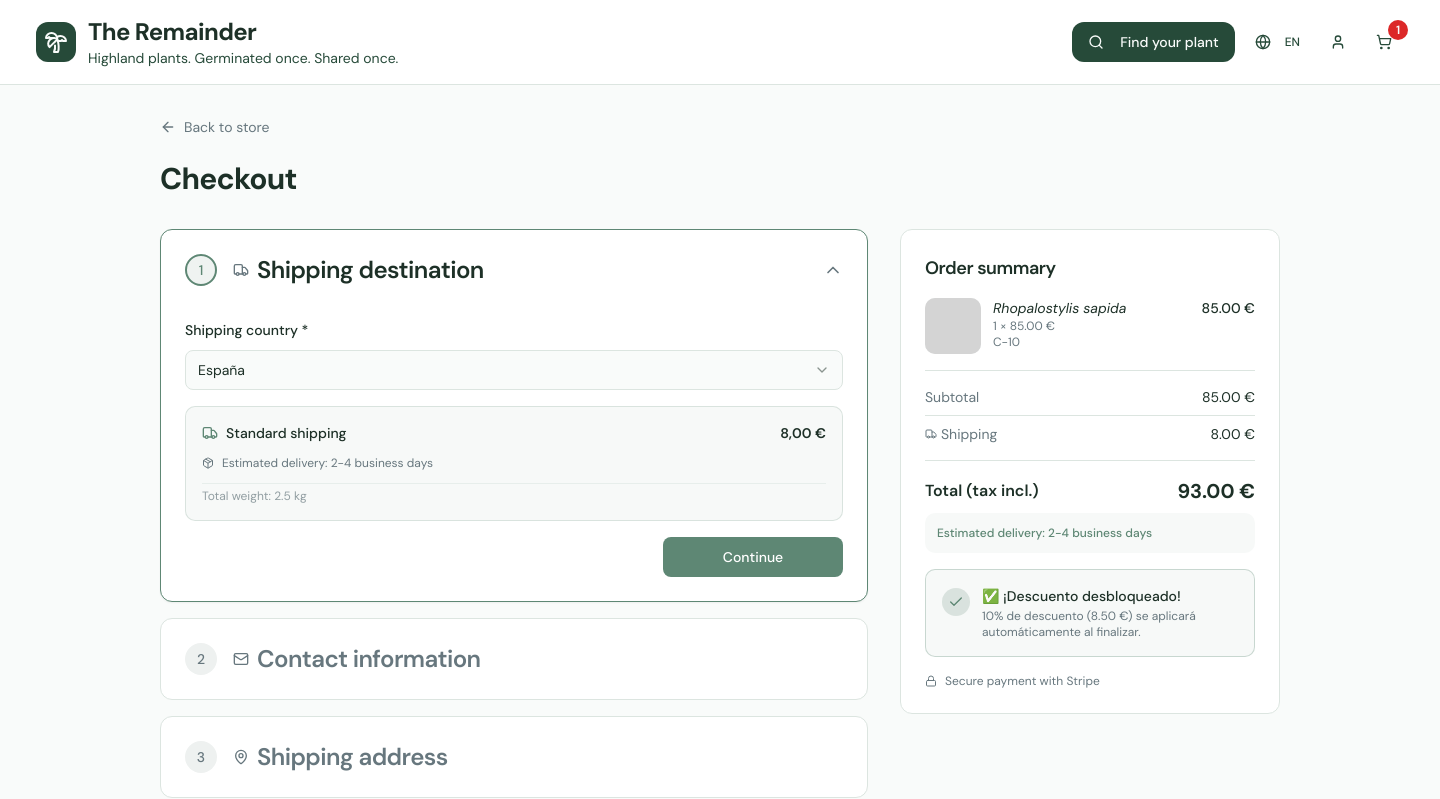
Checkout — form validation › validates required address fields
Step 1 → 2
Click the button "Continue" at (753, 557), box top-left (663, 537), bottom-right (843, 577)
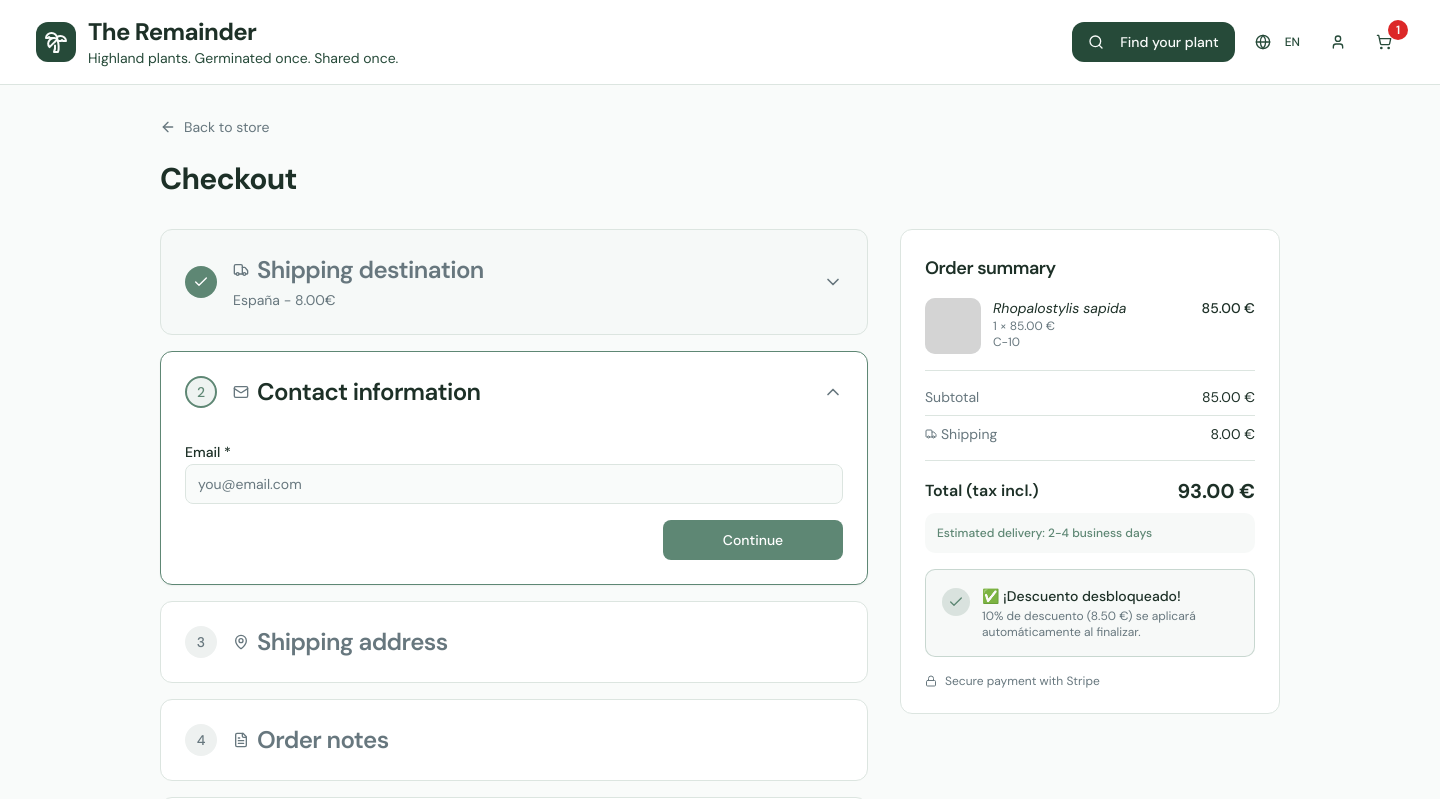
Expected: the field with id "email" is shown
Step 2 → 3
Type "a@b.com" into the field with id "email" at (514, 484), box top-left (185, 464), bottom-right (843, 504)
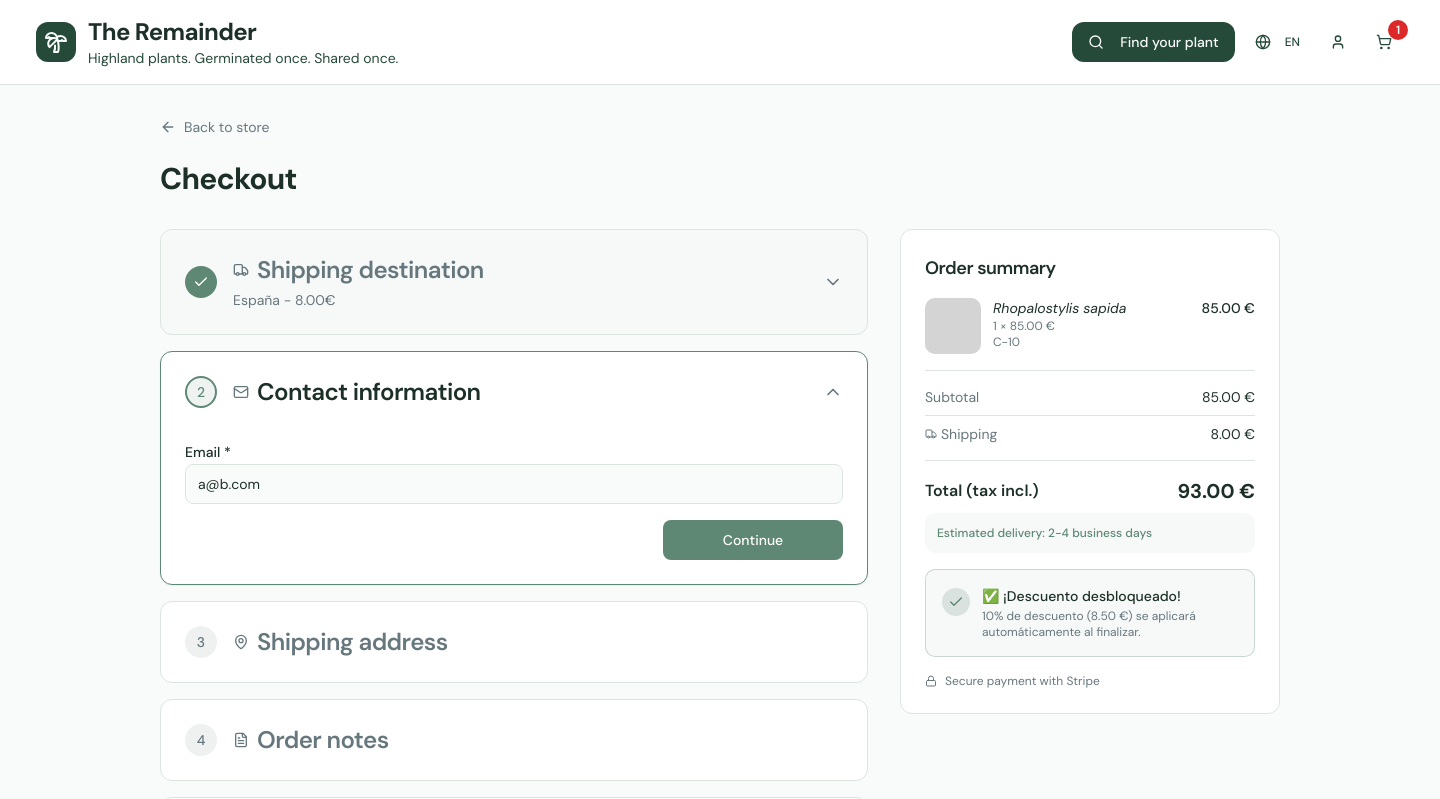
Click the button "Continue" at (753, 540), box top-left (663, 520), bottom-right (843, 560)
(page scrolled)
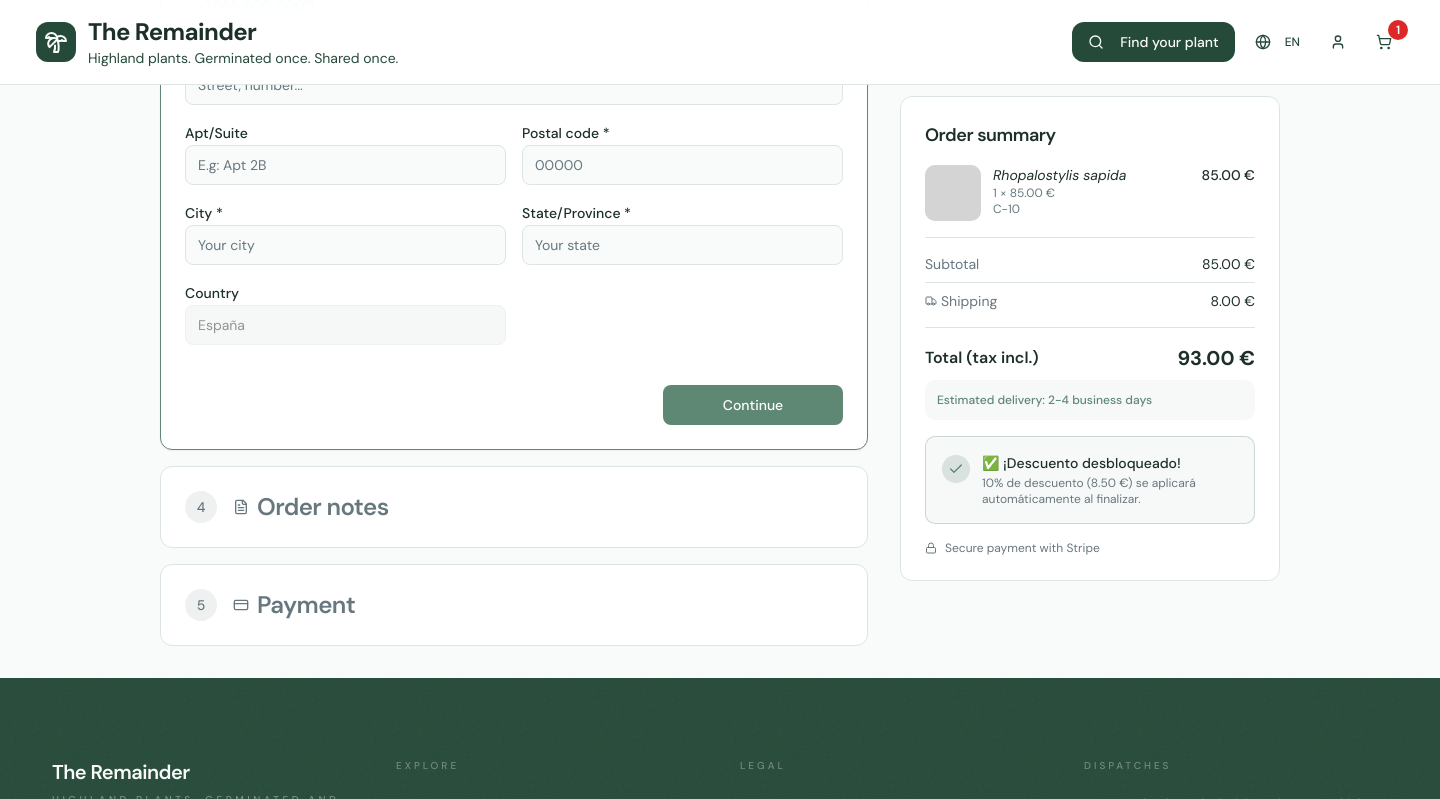
Try to continue without filling address
Click the button "Continue" at (753, 405), box top-left (663, 385), bottom-right (843, 425)
(page scrolled)
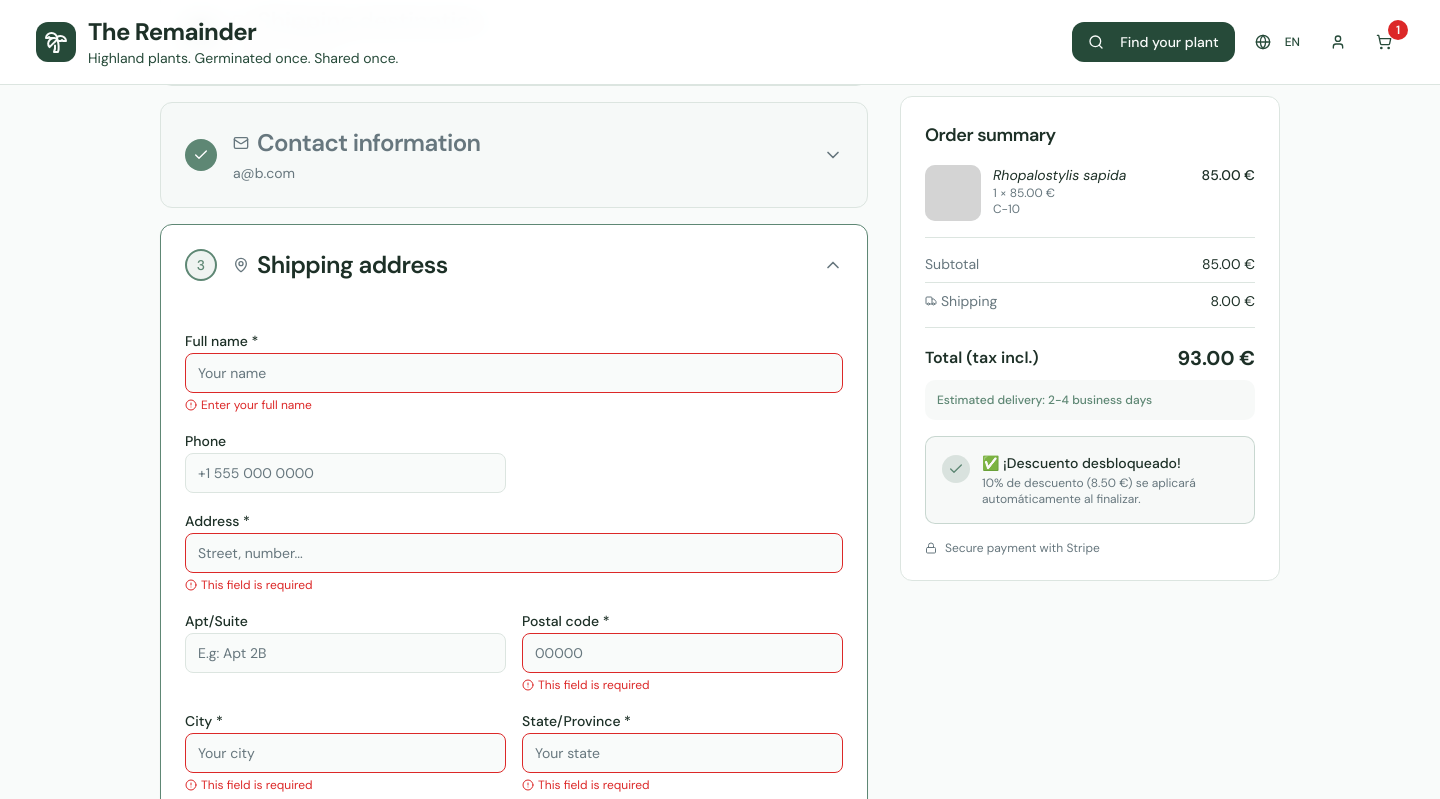
Expected: the message "Enter your full name" is shown, top-left (185, 397), bottom-right (312, 413)
